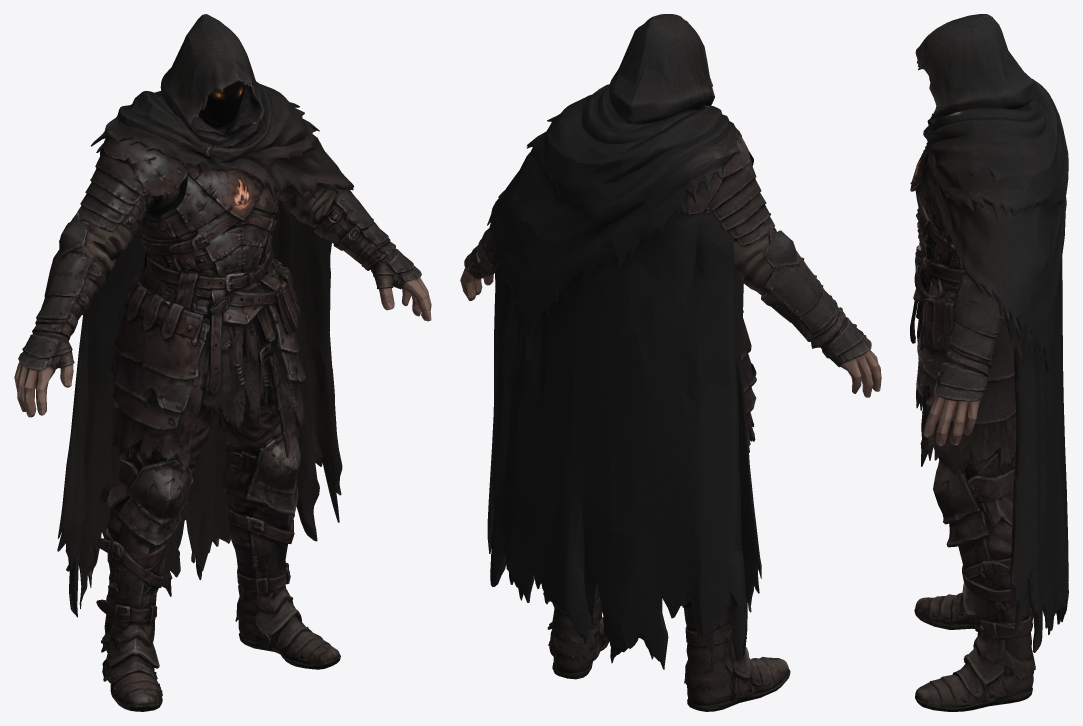
Rendered from WARDEN-M-3DINPUT-v1.glb.
The picture shows the model from 3 angles, left to right: view 1: azimuth 30°, elevation 25°; view 2: azimuth 150°, elevation 25°; view 3: azimuth 270°, elevation 25°; orthographic projection.
Visible parts, largest first — view 1: mesh_node; view 2: mesh_node; view 3: mesh_node.
Part boxes in pixels (left/top/right/bottom): mesh_node: left=14, top=14, right=431, bottom=711; mesh_node: left=460, top=14, right=881, bottom=711; mesh_node: left=910, top=14, right=1068, bottom=711.
Size of the model in its own units: 1.23 by 1.9 by 0.4211.
Materials: 1 (1 with a texture image).
